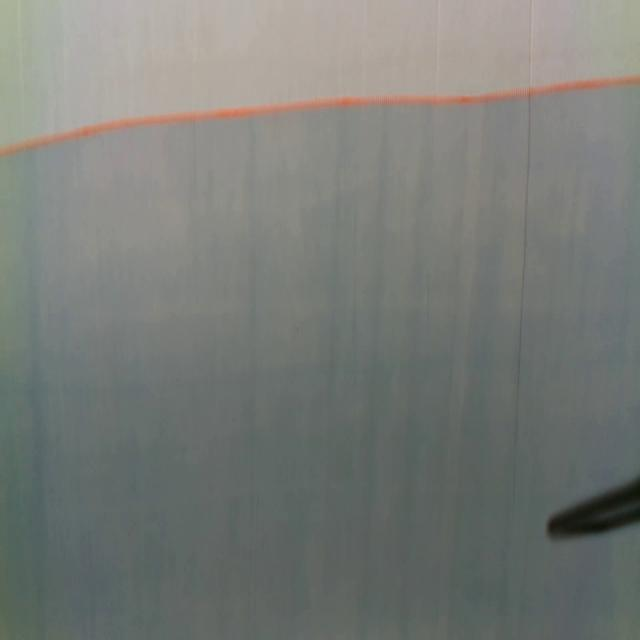crease: (509, 0, 536, 498)
